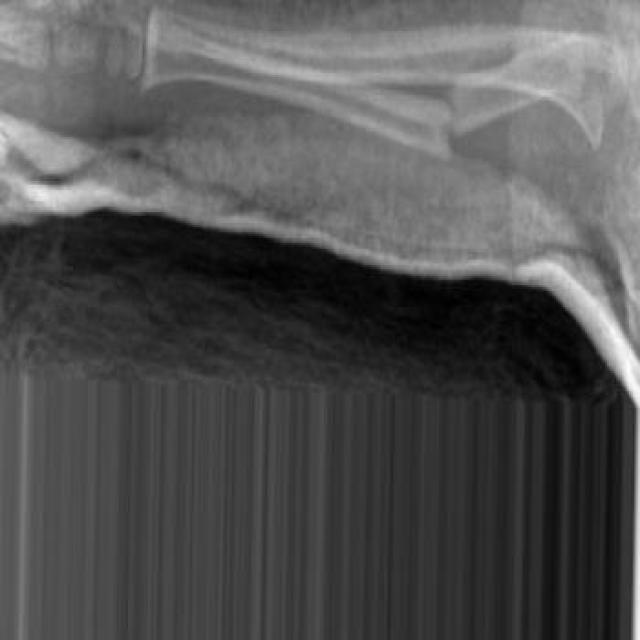Fracture: (437, 63, 466, 173)
